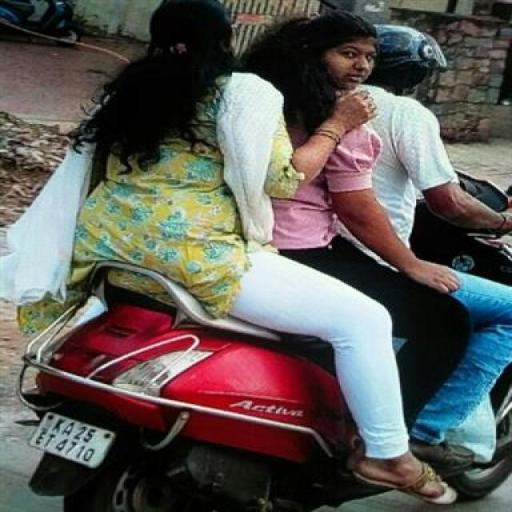tripple riding: (46, 1, 500, 304)
